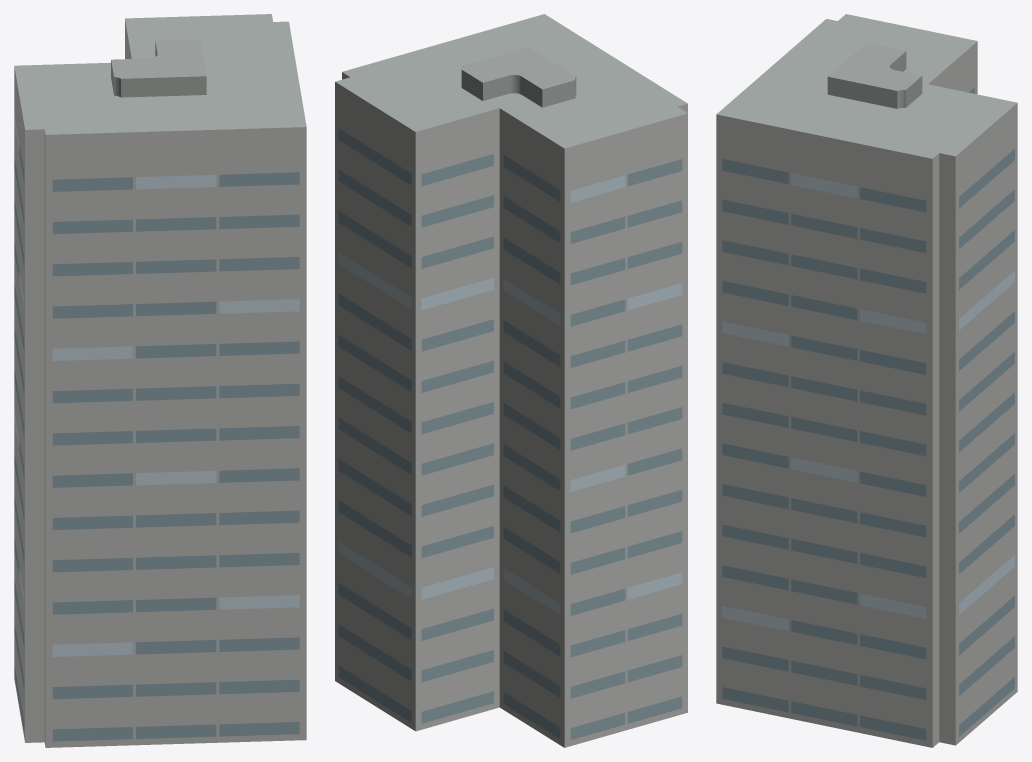
Rendered from fallback-banpo-xi-120.glb.
The picture shows the model from 3 angles, left to right: view 1: azimuth 30°, elevation 25°; view 2: azimuth 150°, elevation 25°; view 3: azimuth 270°, elevation 25°; orthographic projection. The views are drawn at different scales.
Visible parts, largest first — view 1: fallback-banpo-xi-120; view 2: fallback-banpo-xi-120; view 3: fallback-banpo-xi-120.
Part boxes in pixels (x1,y1,x2,y2): fallback-banpo-xi-120: [14, 14, 306, 747]; fallback-banpo-xi-120: [335, 14, 687, 747]; fallback-banpo-xi-120: [716, 14, 1017, 747].
Size of the model in its own units: 41.45 by 81 by 36.42.
